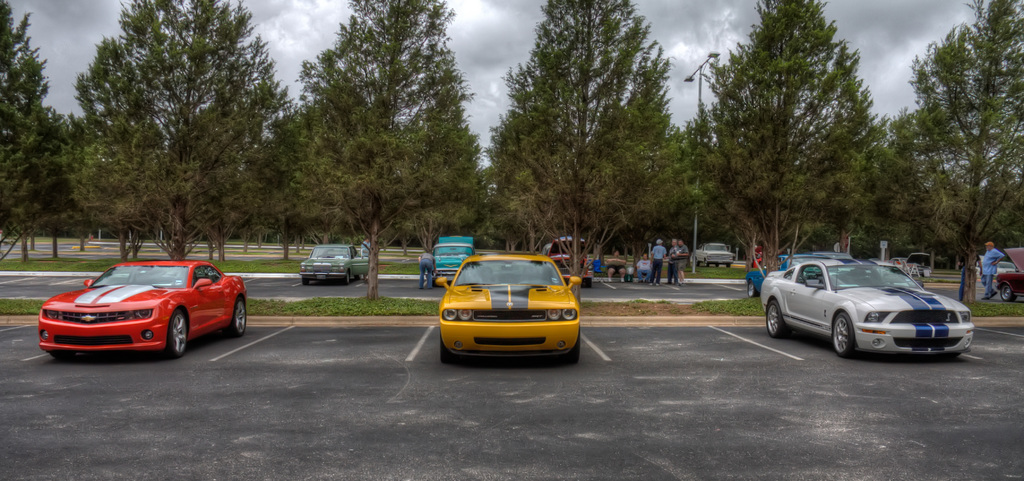Car: (768, 257, 972, 367), (33, 258, 252, 359), (432, 247, 583, 366), (744, 257, 819, 298), (301, 244, 366, 281), (426, 235, 476, 274), (996, 245, 1023, 299), (691, 237, 736, 263)
